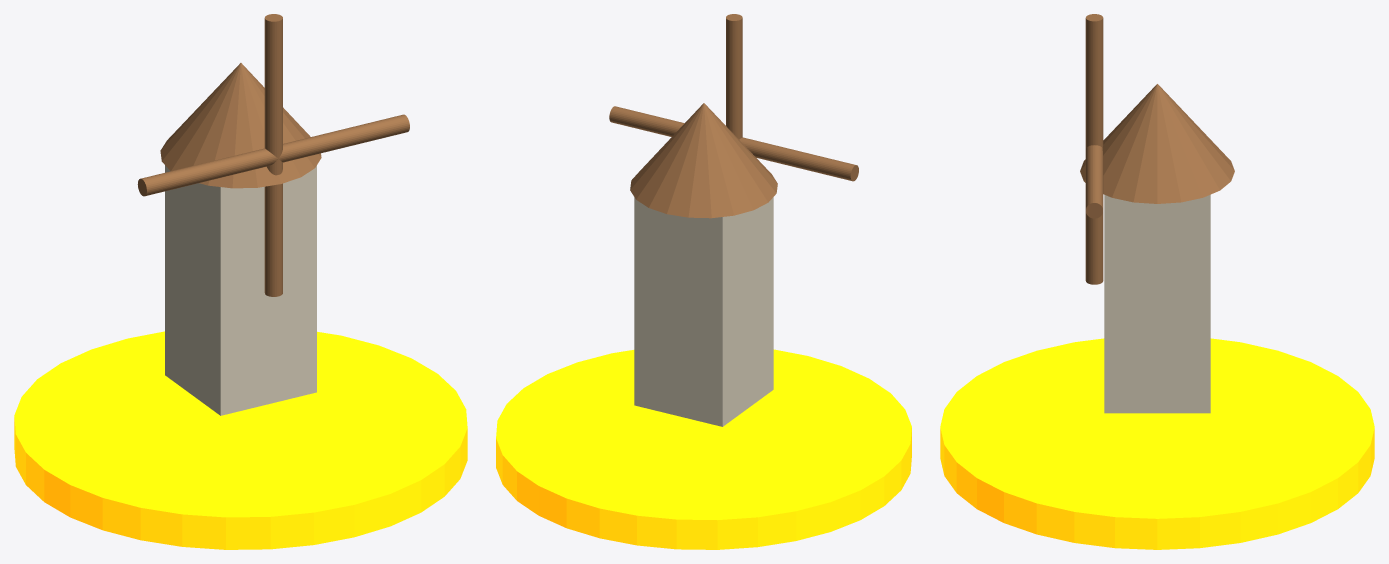
File: spanish_windmill.glb
3 renders of one model, left to right at view 1: azimuth 30°, elevation 25°; view 2: azimuth 150°, elevation 25°; view 3: azimuth 270°, elevation 25°, orthographic. The views are drawn at different scales.
Visible parts, largest first — view 1: 11_18_Popular_Spanish_Windmill_ROOT_base, 11_18_Popular_Spanish_Windmill_part_01, 11_18_Popular_Spanish_Windmill_part_02, 11_18_Popular_Spanish_Windmill_part_04, 11_18_Popular_Spanish_Windmill_part_05, 11_18_Popular_Spanish_Windmill_part_03, 11_18_Popular_Spanish_Windmill_part_06; view 2: 11_18_Popular_Spanish_Windmill_ROOT_base, 11_18_Popular_Spanish_Windmill_part_01, 11_18_Popular_Spanish_Windmill_part_02, 11_18_Popular_Spanish_Windmill_part_04, 11_18_Popular_Spanish_Windmill_part_05, 11_18_Popular_Spanish_Windmill_part_03; view 3: 11_18_Popular_Spanish_Windmill_ROOT_base, 11_18_Popular_Spanish_Windmill_part_01, 11_18_Popular_Spanish_Windmill_part_02, 11_18_Popular_Spanish_Windmill_part_04, 11_18_Popular_Spanish_Windmill_part_03, 11_18_Popular_Spanish_Windmill_part_06.
Part boxes in pixels (box(x1,y1,x2,y2)): 11_18_Popular_Spanish_Windmill_ROOT_base: box(14, 331, 467, 549); 11_18_Popular_Spanish_Windmill_part_01: box(165, 165, 316, 415); 11_18_Popular_Spanish_Windmill_part_02: box(160, 63, 321, 188); 11_18_Popular_Spanish_Windmill_part_04: box(264, 14, 282, 158); 11_18_Popular_Spanish_Windmill_part_05: box(137, 148, 277, 196); 11_18_Popular_Spanish_Windmill_part_03: box(278, 114, 409, 162); 11_18_Popular_Spanish_Windmill_part_06: box(264, 159, 282, 296); 11_18_Popular_Spanish_Windmill_ROOT_base: box(496, 349, 911, 549); 11_18_Popular_Spanish_Windmill_part_01: box(634, 197, 773, 426); 11_18_Popular_Spanish_Windmill_part_02: box(630, 103, 777, 218); 11_18_Popular_Spanish_Windmill_part_04: box(726, 14, 742, 139); 11_18_Popular_Spanish_Windmill_part_05: box(739, 137, 858, 181); 11_18_Popular_Spanish_Windmill_part_03: box(609, 106, 684, 136); 11_18_Popular_Spanish_Windmill_ROOT_base: box(940, 338, 1374, 549); 11_18_Popular_Spanish_Windmill_part_01: box(1104, 194, 1210, 413); 11_18_Popular_Spanish_Windmill_part_02: box(1080, 84, 1234, 203); 11_18_Popular_Spanish_Windmill_part_04: box(1085, 14, 1103, 148); 11_18_Popular_Spanish_Windmill_part_03: box(1085, 145, 1103, 218); 11_18_Popular_Spanish_Windmill_part_06: box(1085, 211, 1103, 284).
Size of the model in its own units: 0.76 by 0.85 by 0.76.
